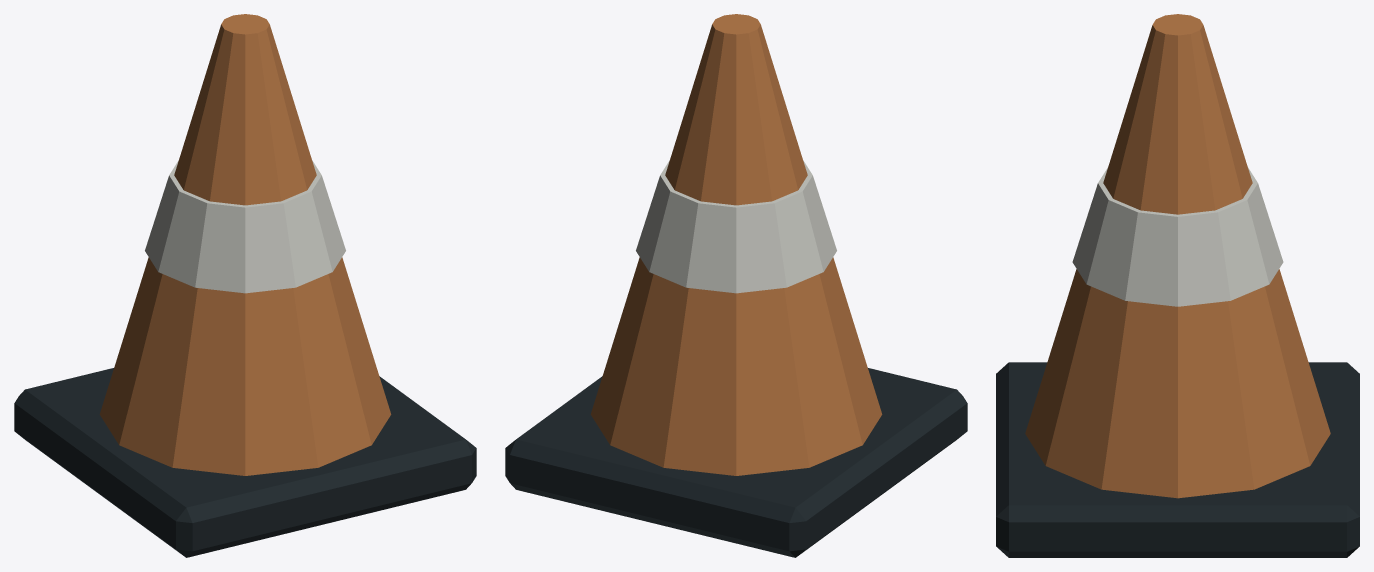
File: props-cone.lod0.glb
The picture shows the model from 3 angles, left to right: view 1: azimuth 30°, elevation 25°; view 2: azimuth 150°, elevation 25°; view 3: azimuth 270°, elevation 25°; orthographic projection. The views are drawn at different scales.
Parts seen in each view (by area): view 1: props-cone__body; view 2: props-cone__body; view 3: props-cone__body.
Boxes of the visible parts, box(x1,y1,x2,y2) form: props-cone__body: box(14, 14, 476, 557); props-cone__body: box(505, 14, 967, 557); props-cone__body: box(996, 14, 1359, 557).
Bounding box in the file's own units: 0.5 × 0.7 × 0.5.
